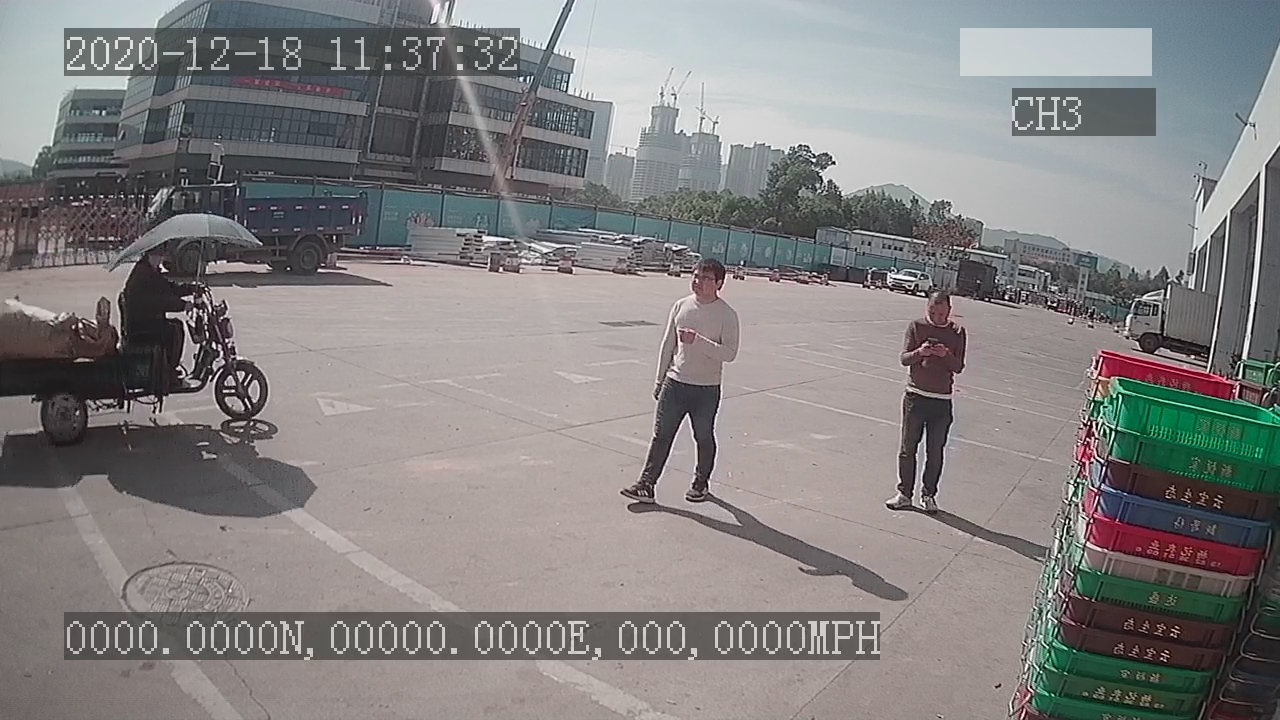person: (622, 259, 750, 517), (885, 285, 970, 517)
